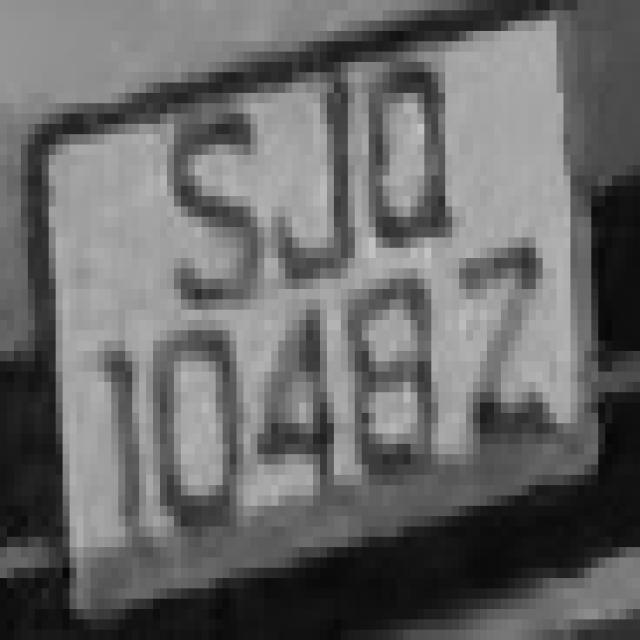0: (139, 310, 264, 547)
1: (83, 289, 160, 588)
4: (230, 289, 354, 526)
8: (334, 248, 452, 495)
J: (257, 31, 369, 310)
Q: (348, 31, 466, 279)
S: (146, 52, 278, 330)
Z: (432, 196, 564, 475)
